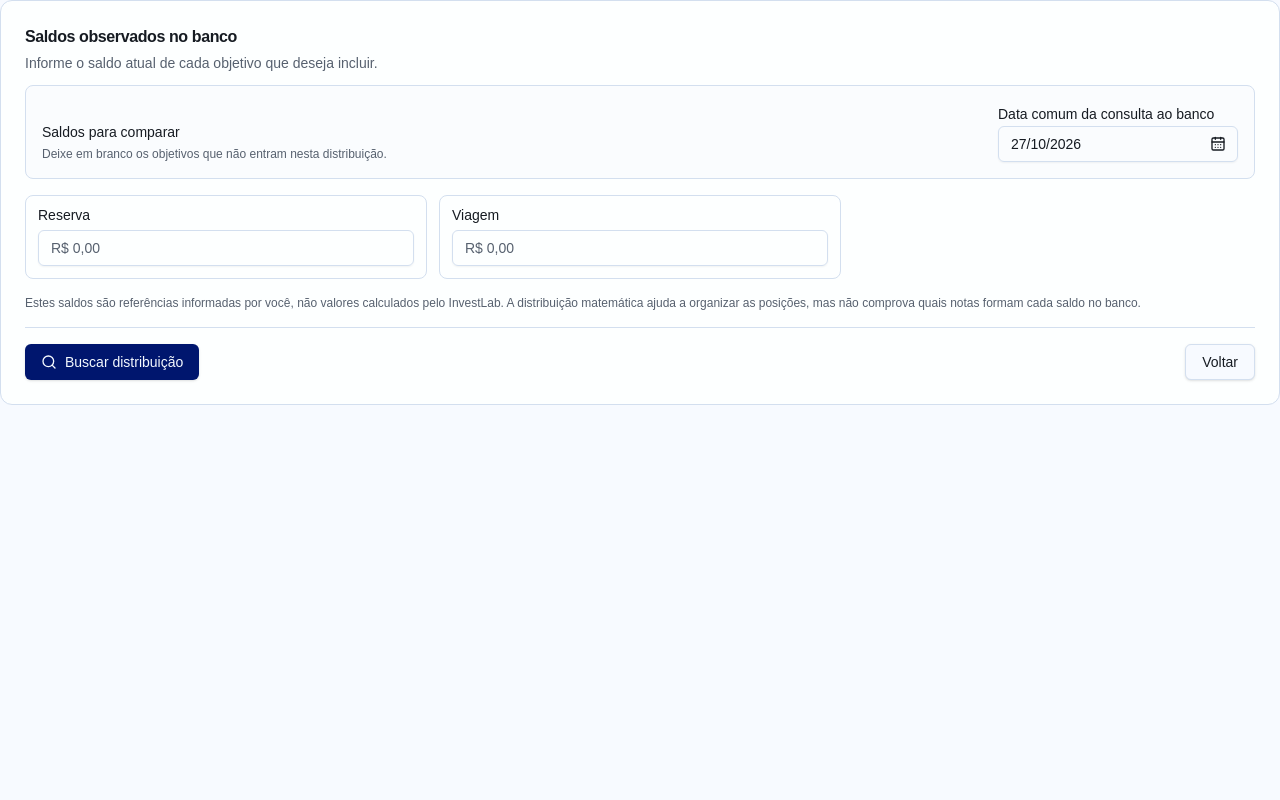
Test: PortfolioObjectiveOrganizer › explains an optimal result that is not eligible for confirmation
The image size is (1280, 800).
Type "10000" into the field labelled "Reserva" at (226, 248), box [38,230,414,266]
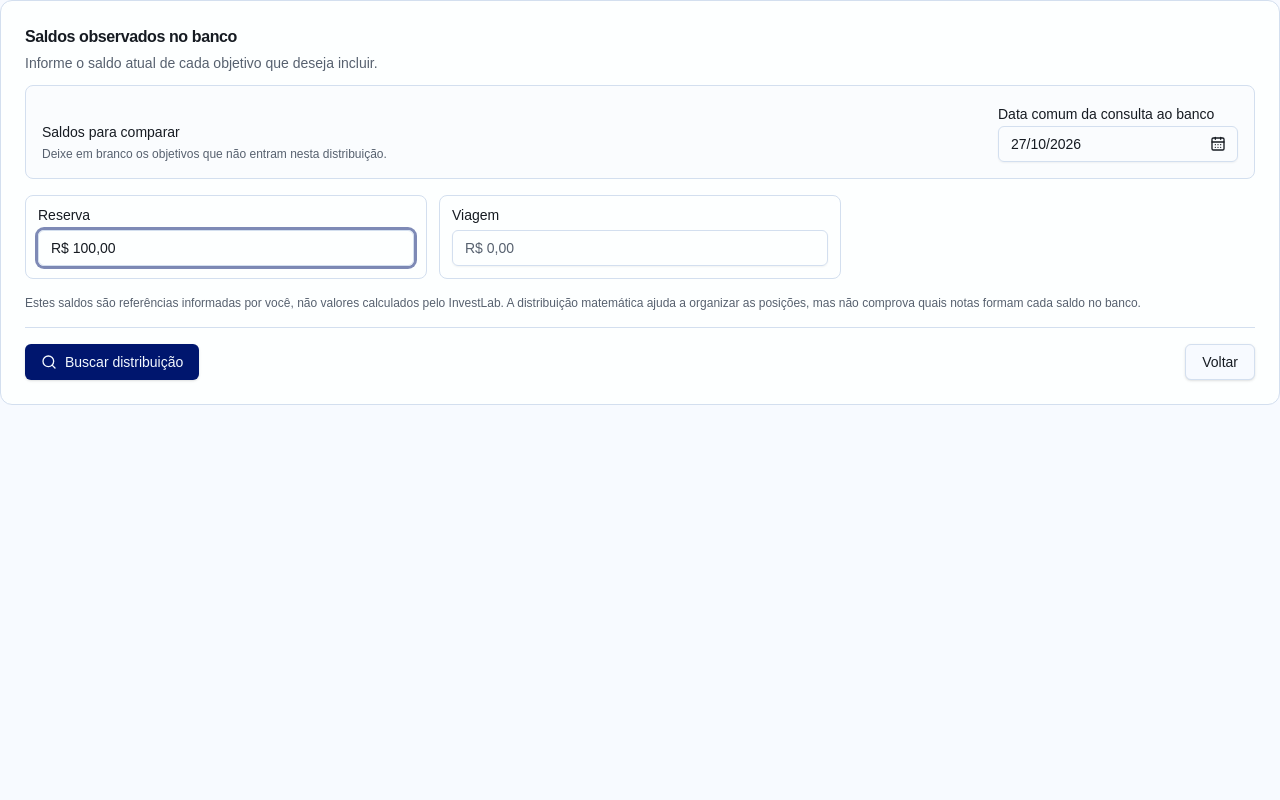
Click the button "Buscar distribuição" at (112, 362), box [25,344,199,380]
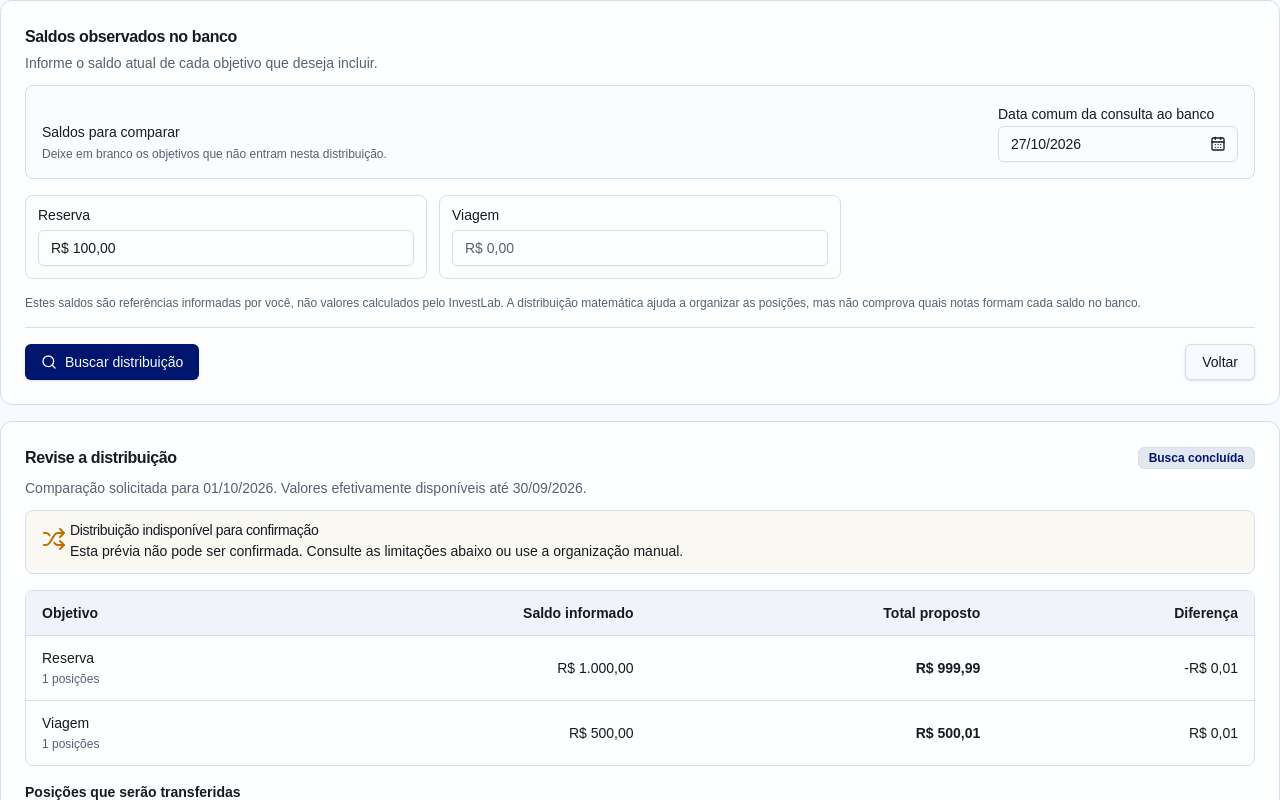
Expected: the heading "Distribuição indisponível para confirmação" is shown, [70,522,318,538]
Expected: the text "não pode ser confirmada. Consulte as limitações" is shown, [70,543,683,559]
